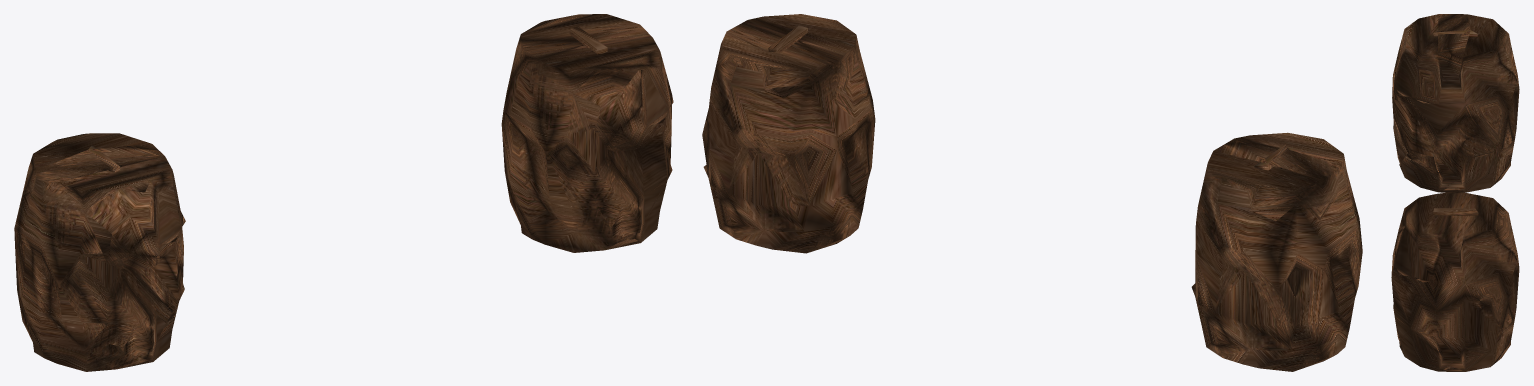
Rendered from barrels-wooden.lite.21abe4b0.glb.
3 views of the same model, side by side, from view 1: azimuth 30°, elevation 25°; view 2: azimuth 150°, elevation 25°; view 3: azimuth 270°, elevation 25° (orthographic). The views are drawn at different scales.
Visible parts, largest first — view 1: model; view 2: model; view 3: model.
Boxes of the visible parts, left/top/right/bottom form: model: left=14, top=14, right=673, bottom=371; model: left=702, top=14, right=1362, bottom=371; model: left=1391, top=14, right=1519, bottom=371.
Size of the model in its own units: 3.13 by 0.8945 by 0.7291.
Materials: 2 (2 with a texture image).
